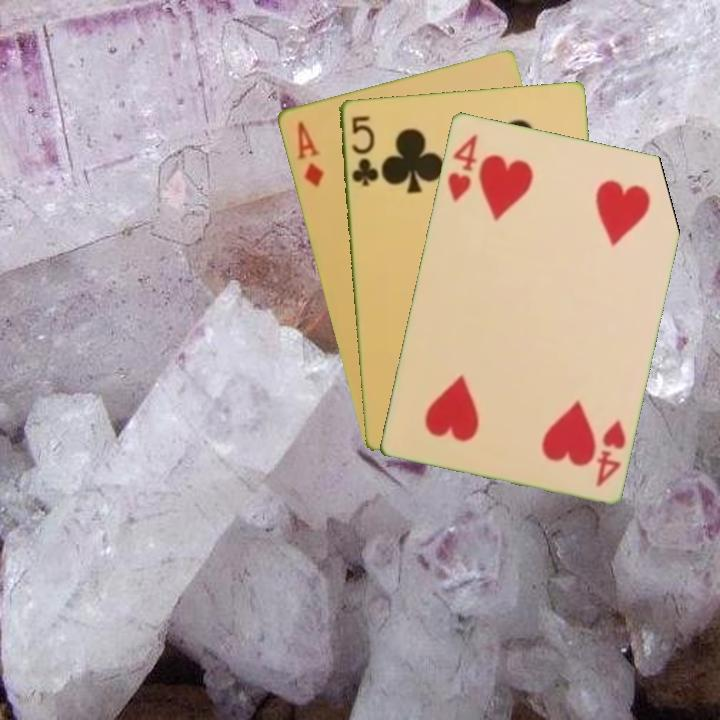4h: (443, 130, 480, 204), (592, 416, 628, 490)
5c: (347, 111, 381, 189)
Ad: (293, 117, 327, 190)
